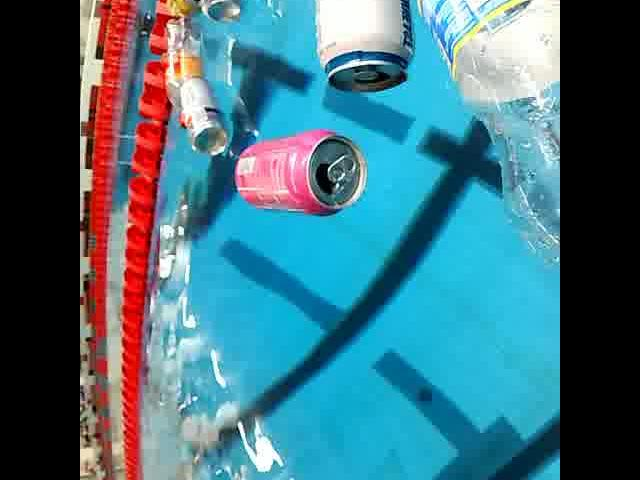Bottle: (405, 0, 560, 278)
Can: (230, 119, 374, 218), (309, 0, 414, 101), (177, 68, 231, 154), (203, 0, 245, 25)
